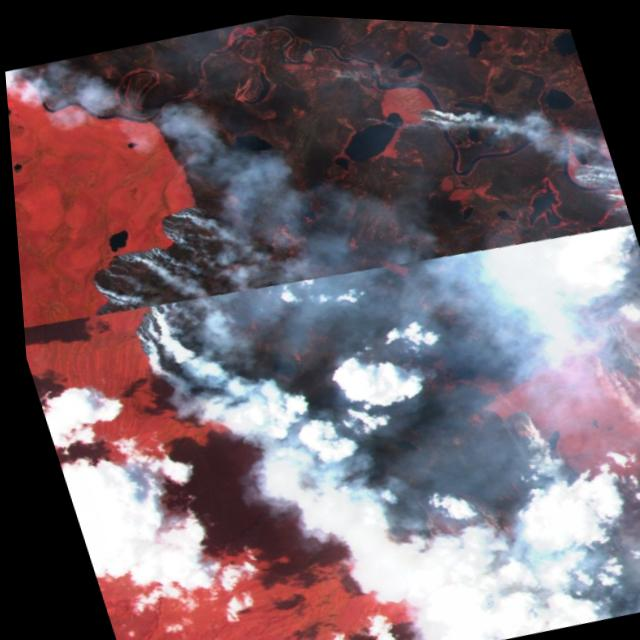fire: (27, 23, 640, 640)
